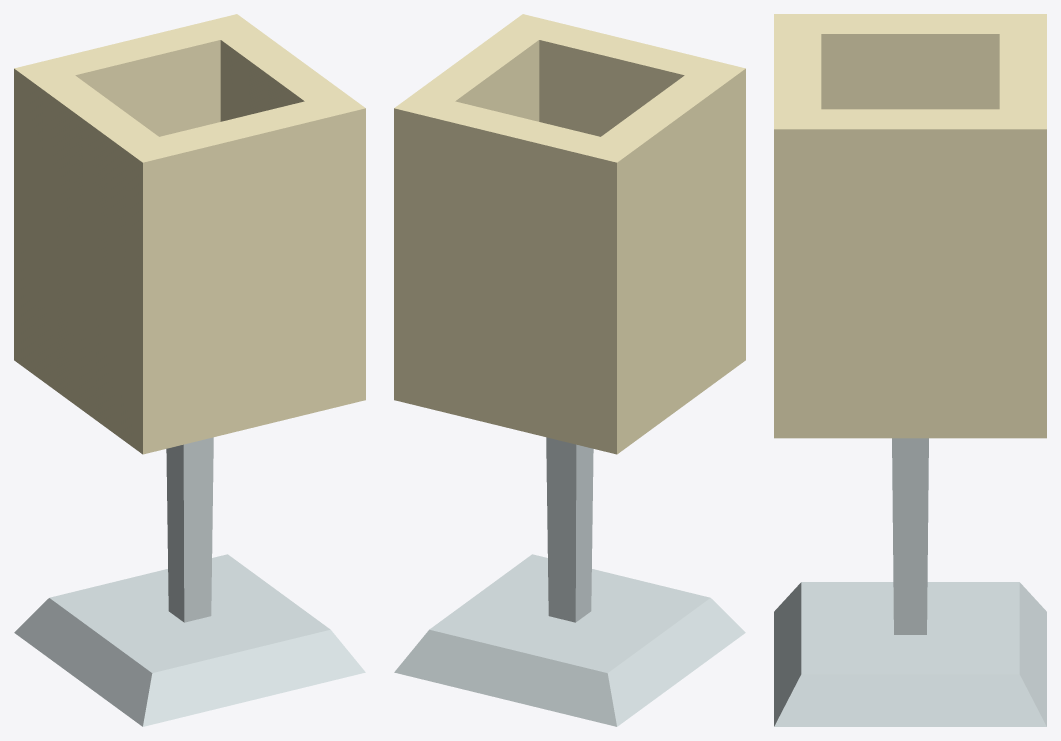
File: lampSquareTable.gltf
The picture shows the model from 3 angles, left to right: view 1: azimuth 30°, elevation 25°; view 2: azimuth 150°, elevation 25°; view 3: azimuth 270°, elevation 25°; orthographic projection. The views are drawn at different scales.
Visible parts, largest first — view 1: lampSquareTable; view 2: lampSquareTable; view 3: lampSquareTable.
Boxes of the visible parts, left/top/right/bottom form: lampSquareTable: left=14, top=14, right=365, bottom=726; lampSquareTable: left=394, top=14, right=745, bottom=726; lampSquareTable: left=774, top=14, right=1046, bottom=726.
Size of the model in its own units: 1.2 by 2.9 by 1.2.
